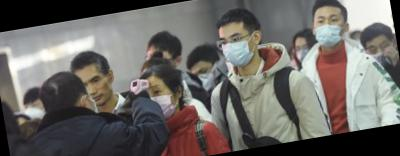with_mask: (217, 28, 259, 69), (143, 78, 180, 124), (312, 9, 350, 49), (365, 37, 399, 71), (189, 64, 223, 94), (74, 86, 100, 120), (23, 99, 49, 122), (294, 39, 314, 65)
without_mask: (81, 71, 114, 108)
